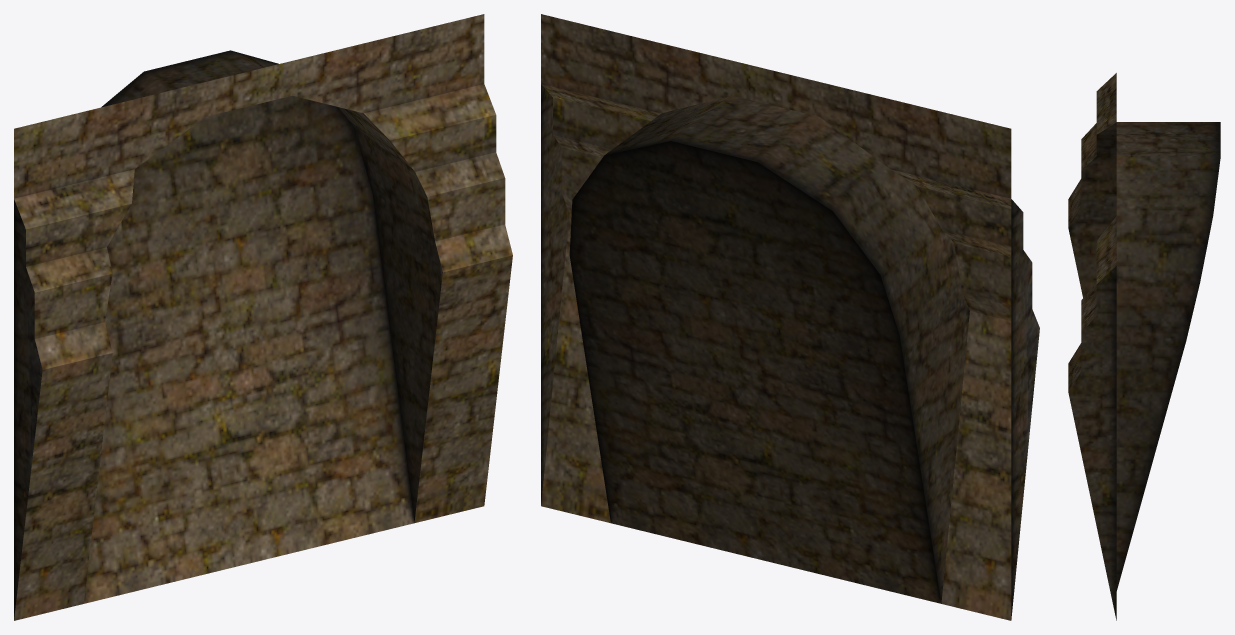
File: wall_outside_detail01.dae
The picture shows the model from 3 angles, left to right: view 1: azimuth 30°, elevation 25°; view 2: azimuth 150°, elevation 25°; view 3: azimuth 270°, elevation 25°; orthographic projection. The views are drawn at different scales.
Parts seen in each view (by area): view 1: wall_outside_detail01_mesh; view 2: wall_outside_detail01_mesh; view 3: wall_outside_detail01_mesh.
Boxes of the visible parts, x1,y1,x2,y2 form: wall_outside_detail01_mesh: (14,14,512,620); wall_outside_detail01_mesh: (541,14,1039,620); wall_outside_detail01_mesh: (1068,73,1220,620).
Size of the model in its own units: 8 by 8 by 2.67.
